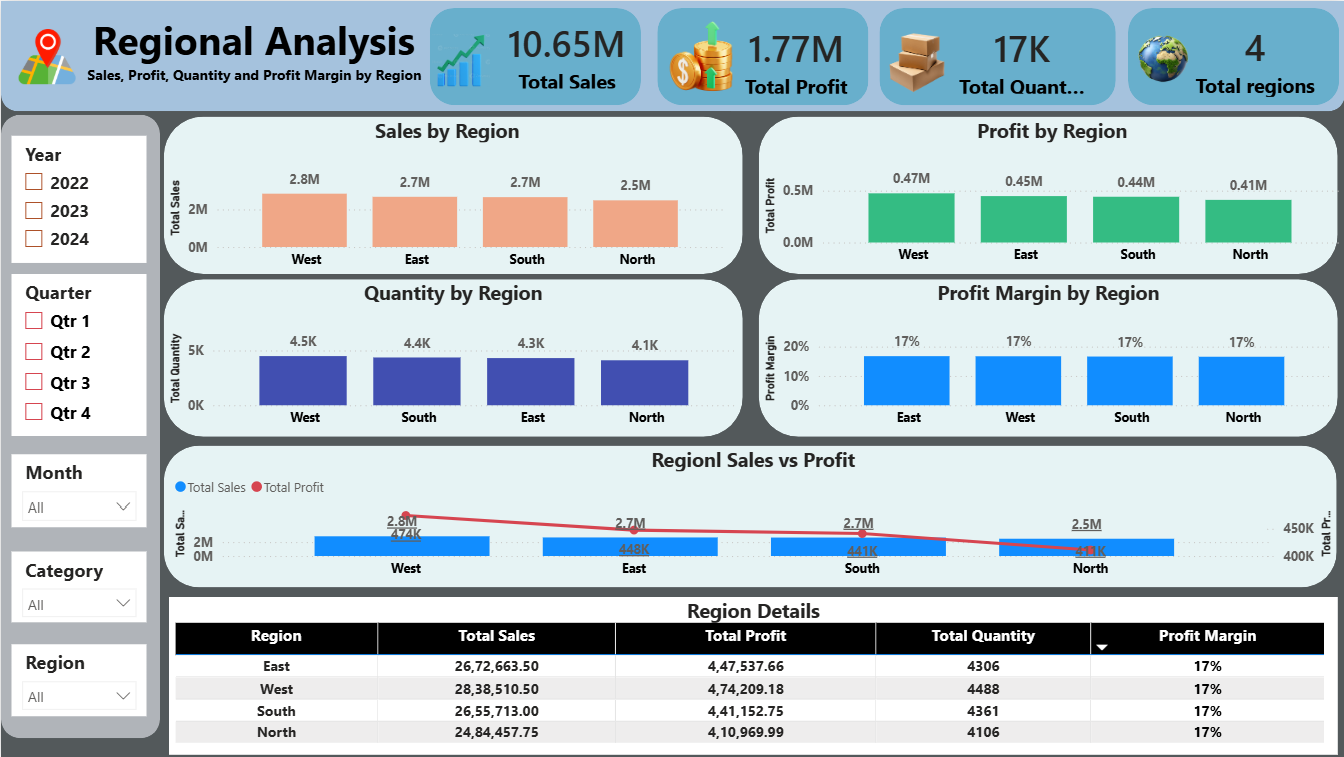

The dashboard page shown, as its layout file describes it:
{"tool":"powerbi","page":{"name":"Regional Analysis","canvas":[1280,720],"ordinal":3},"visuals":[{"type":"shape","box":[155.7,422.9,1117.1,134.3],"z":0},{"type":"shape","box":[721.4,264.3,551.4,150],"z":1000},{"type":"shape","box":[155.7,264.3,551.4,150],"z":2000},{"type":"shape","box":[721.4,110,551.4,150],"z":3000},{"type":"shape","box":[155.7,110,551.4,150],"z":4000},{"type":"shape","box":[0,0,1280,105],"z":5000},{"type":"shape","box":[407.5,6.2,201.2,92.5],"z":6000},{"type":"clusteredColumnChart","title":"Sales by Region","fields":{"Category":["data_clean.Region"],"Y":["data_clean.Total Sales"]},"box":[155.7,110,540,154.3],"z":7000},{"type":"clusteredColumnChart","title":"Profit by Region","fields":{"Category":["data_clean.Region"],"Y":["data_clean.Total Profit"]},"box":[721.4,110,558.6,150],"z":8000},{"type":"clusteredColumnChart","title":"Quantity by Region","fields":{"Category":["data_clean.Region"],"Y":["data_clean.Total Quantity"]},"box":[155.7,264.3,551.4,150],"z":9000},{"type":"clusteredColumnChart","fields":{"Category":["data_clean.Region"],"Y":["data_clean.Profit Margin"]},"box":[721.4,264.3,551.4,150],"z":10000},{"type":"lineClusteredColumnComboChart","title":"Regionl Sales vs Profit","fields":{"Category":["data_clean.Region"],"Y":["data_clean.Total Sales"],"Y2":["data_clean.Total Profit"]},"box":[160,422.9,1112.9,134.3],"z":11000},{"type":"cardVisual","fields":{"Data":["data_clean.Total Sales"]},"box":[453.8,3.8,171.2,97.5],"z":12000},{"type":"shape","box":[625,6.2,201.2,92.5],"z":13000},{"type":"shape","box":[836.2,6.2,225,92.5],"z":14000},{"type":"shape","box":[1073.8,6.2,201.2,92.5],"z":15000},{"type":"textbox","box":[0,6.2,407.5,98.8],"z":16000},{"type":"image","box":[12.5,26.2,61.2,52.5],"z":17000},{"type":"image","box":[390,31.2,96.2,50],"z":18000},{"type":"cardVisual","fields":{"Data":["data_clean.Total Profit"]},"box":[677.5,7.5,158.8,97.5],"z":19000},{"type":"image","box":[633.8,16.2,73.3,73.3],"z":20000},{"type":"cardVisual","fields":{"Data":["data_clean.Total Quantity"]},"box":[882.5,7.5,178.8,97.5],"z":21000},{"type":"image","box":[810,25,123.8,65],"z":22000},{"type":"cardVisual","fields":{"Data":["data_clean.Total regions"]},"box":[1107.5,3.8,172.5,105],"z":23000},{"type":"image","box":[1073.8,28.8,67.5,55],"z":24000},{"type":"shape","box":[0,108.6,151.4,592.9],"z":25000},{"type":"slicer","fields":{"Values":["data_clean.Year"]},"box":[10,128.6,128.8,121.2],"z":26000},{"type":"slicer","fields":{"Values":["data_clean.Order_date.Variation.Date Hierarchy.Quarter"]},"box":[10,260,128.6,154.3],"z":27000},{"type":"slicer","fields":{"Values":["data_clean.Order_date.Variation.Date Hierarchy.Month"]},"box":[10,431.4,128.8,68.8],"z":28000},{"type":"slicer","fields":{"Values":["data_clean.Category"]},"box":[10,522.9,128.8,67.5],"z":29000},{"type":"slicer","fields":{"Values":["data_clean.Region"]},"box":[10,611.4,128.8,68.8],"z":30000},{"type":"tableEx","title":"Region Details","fields":{"Values":["data_clean.Region","data_clean.Total Sales","data_clean.Total Profit","data_clean.Total Quantity","data_clean.Profit Margin"]},"box":[160,567.1,1112.9,150],"z":31000}]}

Visuals, with their boxes in screenshot pixels (x1, y1, x2, y2), scaled from the page's 1280x720 canvas onto the 1344x757 screenshot:
shape: pyautogui.locateOnScreen(163, 445, 1336, 586)
shape: pyautogui.locateOnScreen(757, 278, 1336, 436)
shape: pyautogui.locateOnScreen(163, 278, 742, 436)
shape: pyautogui.locateOnScreen(757, 116, 1336, 273)
shape: pyautogui.locateOnScreen(163, 116, 742, 273)
shape: pyautogui.locateOnScreen(0, 0, 1343, 110)
shape: pyautogui.locateOnScreen(428, 7, 639, 104)
"Sales by Region" clusteredColumnChart: pyautogui.locateOnScreen(163, 116, 730, 278)
"Profit by Region" clusteredColumnChart: pyautogui.locateOnScreen(757, 116, 1343, 273)
"Quantity by Region" clusteredColumnChart: pyautogui.locateOnScreen(163, 278, 742, 436)
clusteredColumnChart - data_clean.Region x data_clean.Profit Margin: pyautogui.locateOnScreen(757, 278, 1336, 436)
"Regionl Sales vs Profit" lineClusteredColumnComboChart: pyautogui.locateOnScreen(168, 445, 1337, 586)
cardVisual - data_clean.Total Sales: pyautogui.locateOnScreen(476, 4, 656, 107)
shape: pyautogui.locateOnScreen(656, 7, 868, 104)
shape: pyautogui.locateOnScreen(878, 7, 1114, 104)
shape: pyautogui.locateOnScreen(1127, 7, 1339, 104)
textbox: pyautogui.locateOnScreen(0, 7, 428, 110)
image: pyautogui.locateOnScreen(13, 28, 77, 83)
image: pyautogui.locateOnScreen(410, 33, 511, 85)
cardVisual - data_clean.Total Profit: pyautogui.locateOnScreen(711, 8, 878, 110)
image: pyautogui.locateOnScreen(665, 17, 742, 94)
cardVisual - data_clean.Total Quantity: pyautogui.locateOnScreen(927, 8, 1114, 110)
image: pyautogui.locateOnScreen(850, 26, 980, 95)
cardVisual - data_clean.Total regions: pyautogui.locateOnScreen(1163, 4, 1343, 114)
image: pyautogui.locateOnScreen(1127, 30, 1198, 88)
shape: pyautogui.locateOnScreen(0, 114, 159, 738)
slicer - data_clean.Year: pyautogui.locateOnScreen(10, 135, 146, 263)
slicer - data_clean.Order_date.Variation.Date Hierarchy.Quarter: pyautogui.locateOnScreen(10, 273, 146, 436)
slicer - data_clean.Order_date.Variation.Date Hierarchy.Month: pyautogui.locateOnScreen(10, 454, 146, 526)
slicer - data_clean.Category: pyautogui.locateOnScreen(10, 550, 146, 621)
slicer - data_clean.Region: pyautogui.locateOnScreen(10, 643, 146, 715)
"Region Details" tableEx: pyautogui.locateOnScreen(168, 596, 1337, 754)
